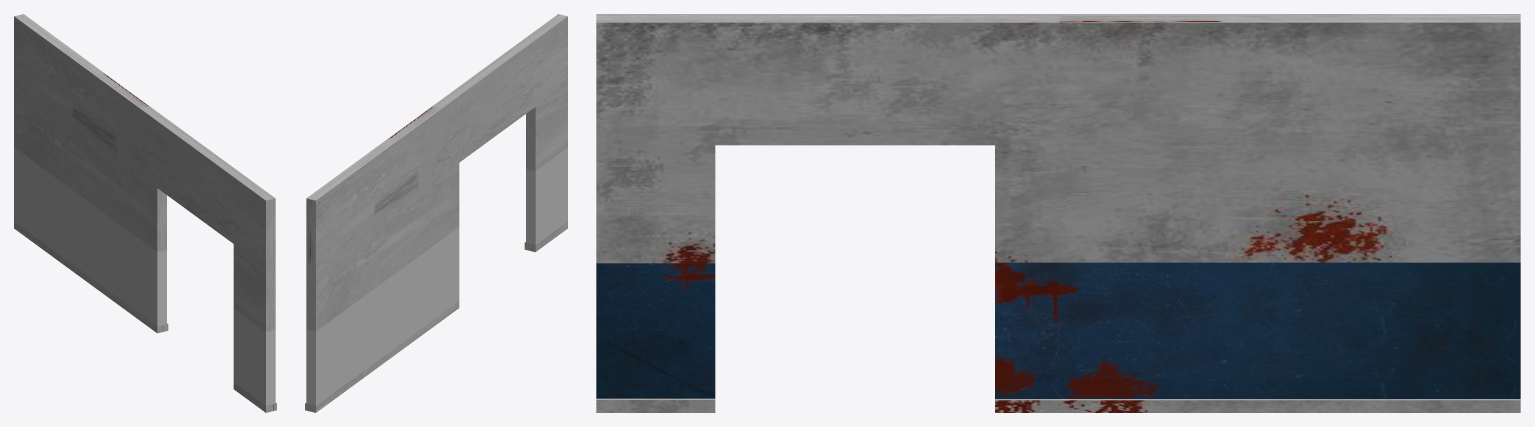
Rendered from paredpuertasmanchas.fbx.
3 views of the same model, side by side, from view 1: azimuth 30°, elevation 25°; view 2: azimuth 150°, elevation 25°; view 3: azimuth 270°, elevation 25° (orthographic). The views are drawn at different scales.
Visible parts, largest first — view 1: Cube.129; view 2: Cube.129; view 3: Cube.129.
Part boxes in pixels (box(x1,y1,x2,y2)): Cube.129: box(14, 14, 276, 412); Cube.129: box(305, 14, 567, 412); Cube.129: box(596, 14, 1520, 412).
Bounding box in the file's own units: 18.78 × 350 × 754.
